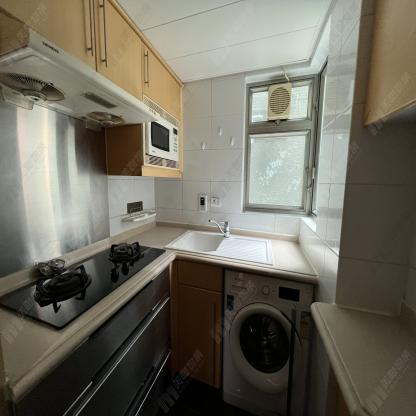Cupboard: (1, 0, 187, 124), (26, 0, 183, 123)
Exhaust Fan: (266, 83, 293, 122)
Exhaust Hood: (1, 7, 161, 131), (0, 10, 159, 130)
Faucet: (208, 217, 233, 241)
Microwave: (142, 94, 180, 171), (145, 116, 181, 165)
Sink: (157, 227, 274, 268), (168, 226, 270, 267)
Stove: (0, 238, 176, 348), (4, 239, 164, 330)
Washing Machine: (223, 267, 318, 416)
